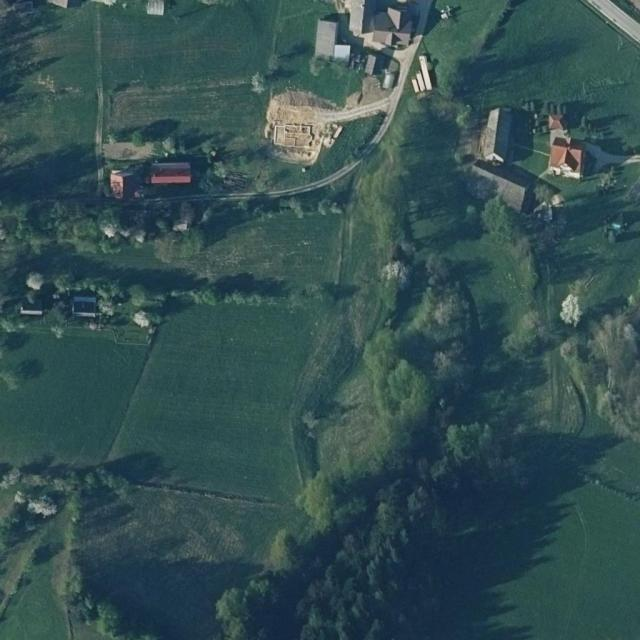agricultural_land: (107, 281, 324, 502), (26, 212, 342, 294), (0, 330, 148, 476), (0, 74, 96, 201), (395, 0, 512, 99), (109, 80, 264, 134), (0, 561, 68, 639), (27, 503, 75, 579)
building: (469, 140, 550, 220), (546, 115, 586, 178), (477, 105, 513, 163), (312, 18, 339, 60), (150, 162, 192, 184), (110, 170, 134, 199), (72, 296, 97, 317), (20, 297, 43, 316), (364, 53, 377, 76), (146, 0, 164, 15)
greenland: (206, 117, 520, 640), (322, 232, 571, 640), (343, 76, 553, 335), (0, 195, 250, 254), (554, 305, 640, 456), (112, 113, 272, 180), (48, 270, 192, 332), (303, 100, 388, 194), (206, 151, 310, 193), (215, 282, 351, 311), (188, 287, 218, 309)
unmetalled_road: (198, 34, 462, 254), (584, 142, 630, 176), (621, 154, 640, 165)
